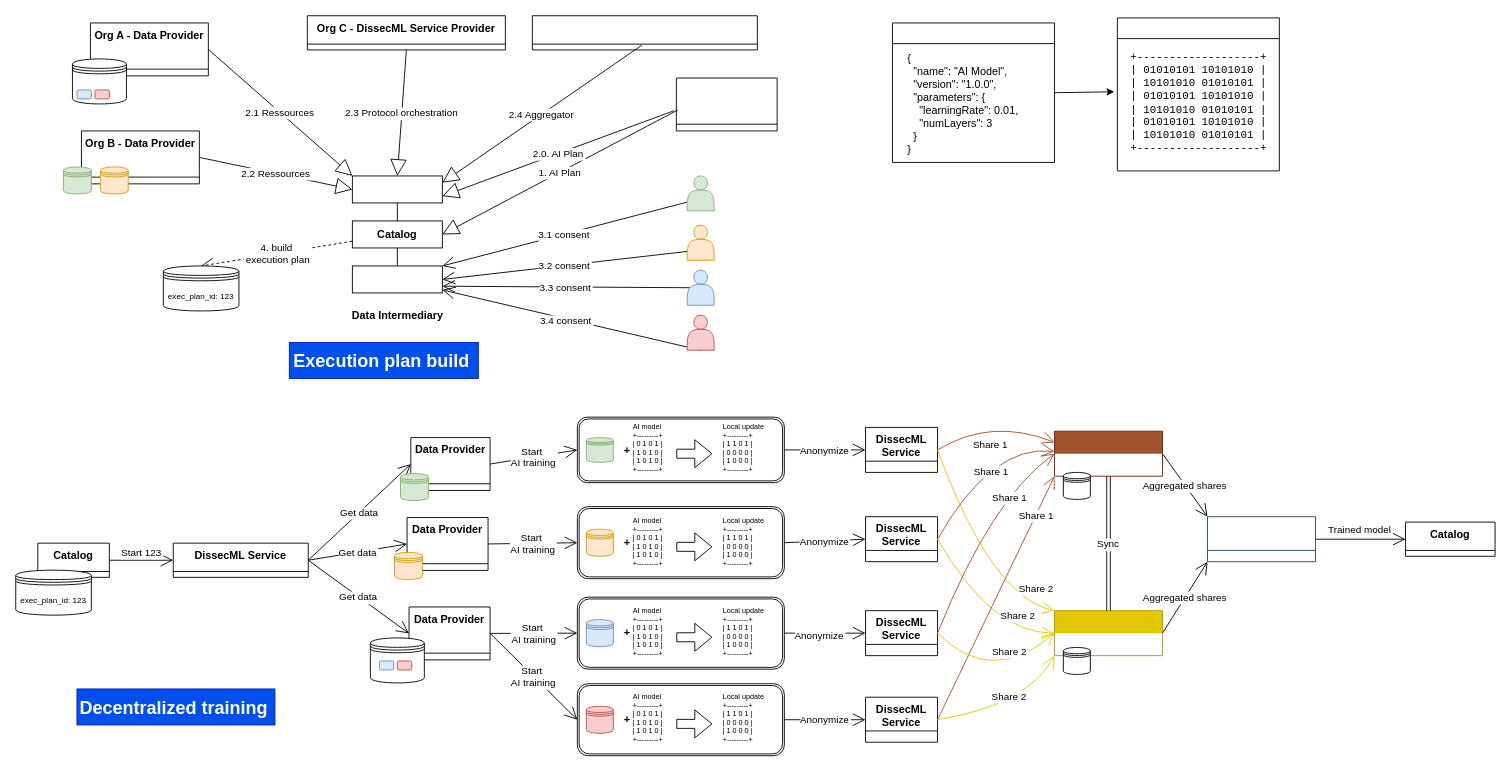
Image size: 1511x777. Some labels were removed from this diagram. Each missing label, with the box of its shape:
AI Model: (1116, 17, 1279, 171)
AI training plan: (892, 22, 1055, 162)
Consent: (351, 265, 442, 293)
Contract: (351, 175, 442, 203)
Data Aggregator 1: (1054, 430, 1163, 476)
Data Aggregator 2: (1054, 610, 1163, 656)
Main Data Aggregator: (1207, 516, 1316, 562)
Org D - Data Aggregator Service Provider: (531, 15, 757, 50)
Org E - AI Provider: (675, 77, 777, 131)
